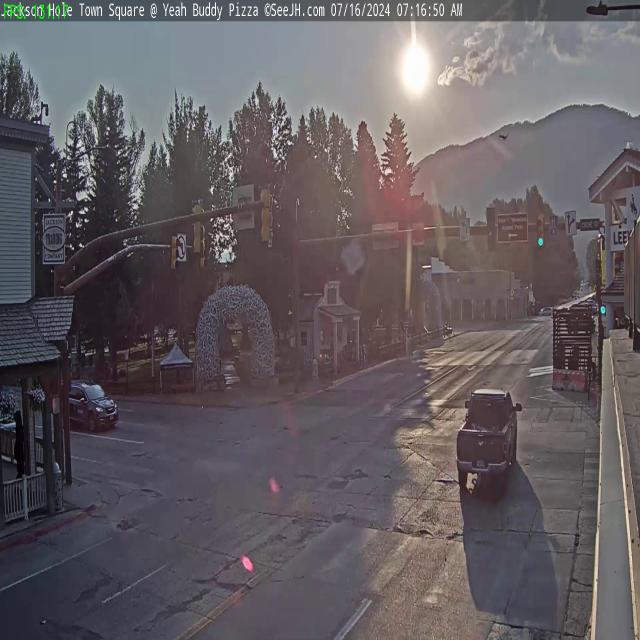pickup: (456, 380, 523, 492)
suv: (61, 380, 117, 434)
traffic light: (190, 199, 204, 256), (260, 184, 273, 245), (487, 207, 496, 252), (537, 215, 545, 248)
